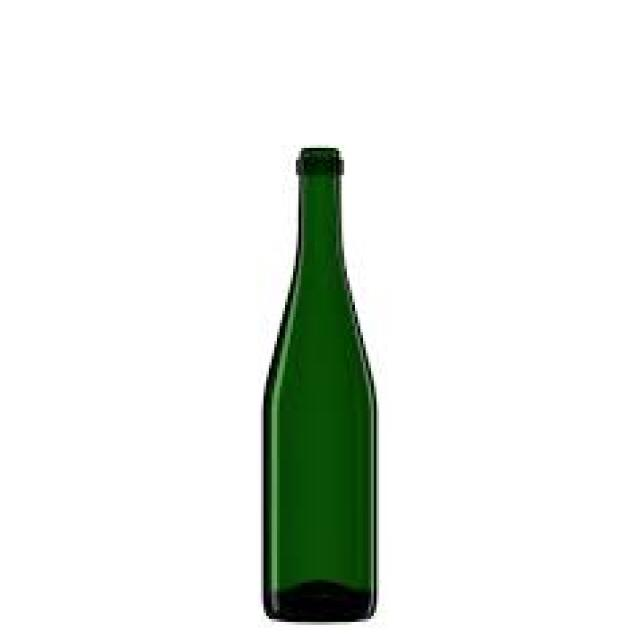glass: (261, 145, 374, 619)
